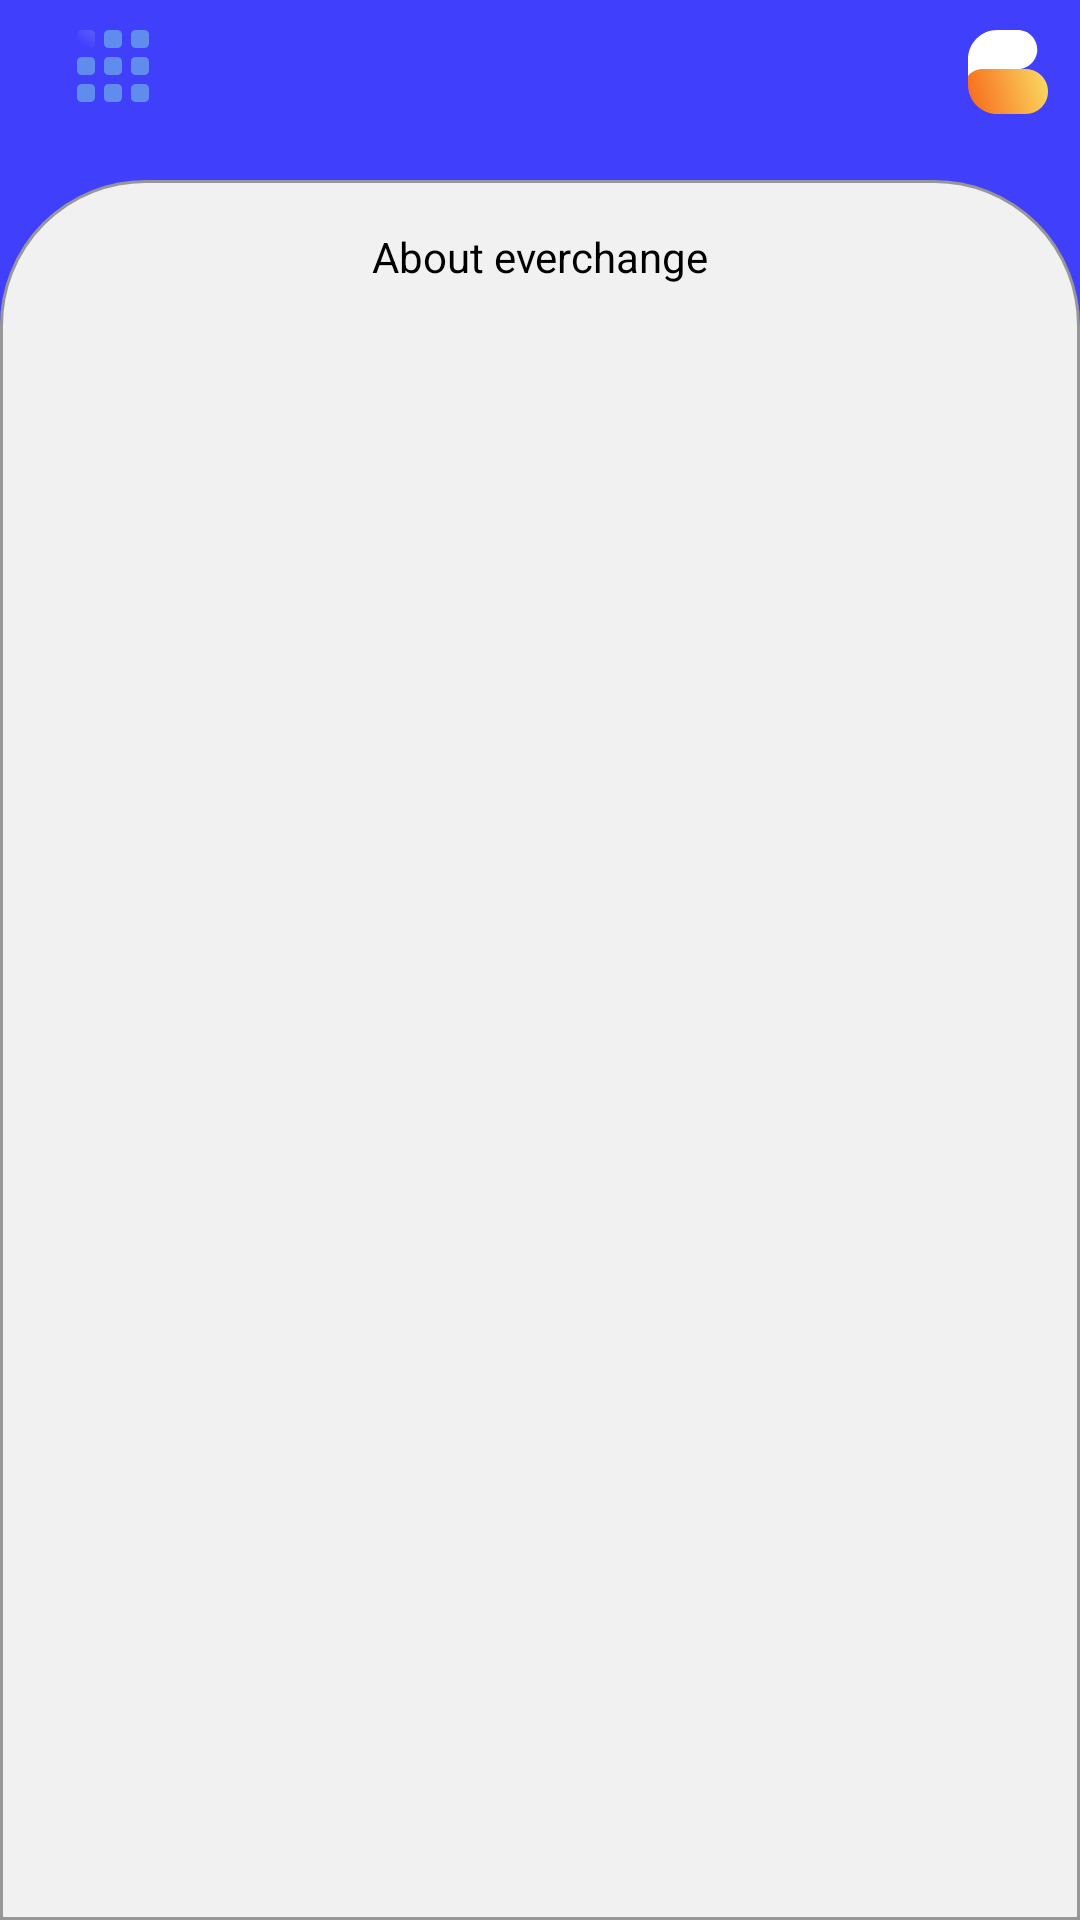

Locate icon controls on the screen. Image size 1080×1920, boxes as box(x1, y1, x2, y2).
grid: box(77, 30, 149, 102)
